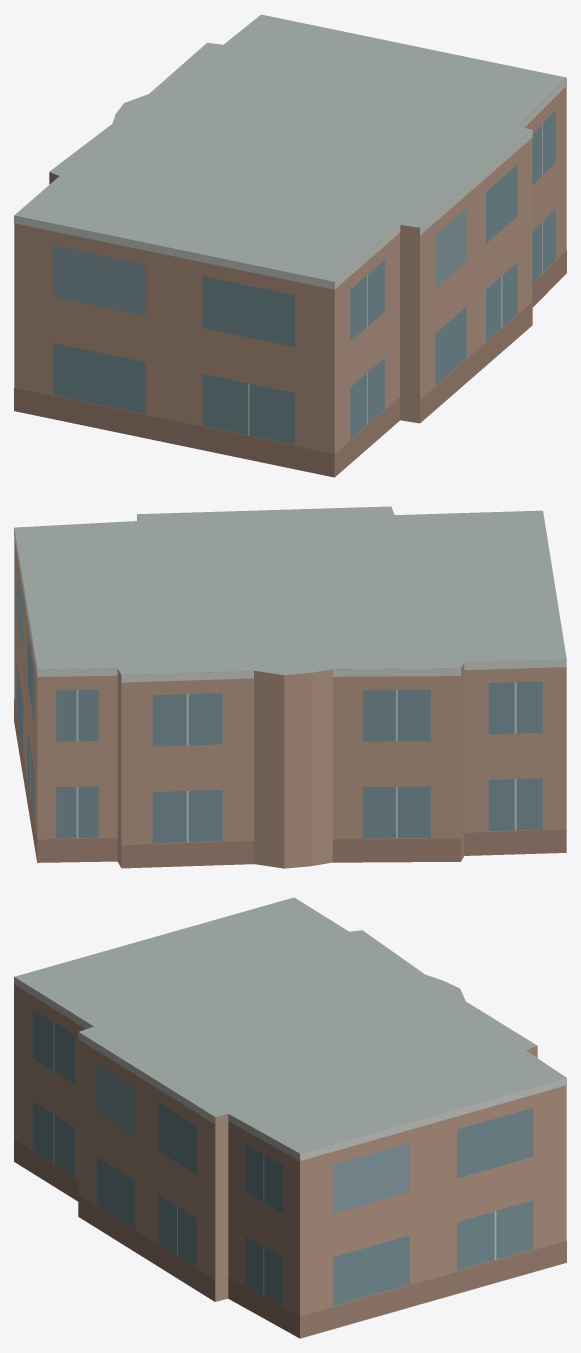
File: survey-upis-32619280.glb
3 renders of one model, top to bottom at view 1: azimuth 30°, elevation 25°; view 2: azimuth 150°, elevation 25°; view 3: azimuth 270°, elevation 25°, orthographic. The views are drawn at different scales.
Parts seen in each view (by area): view 1: survey-upis-32619280.tmp; view 2: survey-upis-32619280.tmp; view 3: survey-upis-32619280.tmp.
Part boxes in pixels (x1,y1,x2,y2): survey-upis-32619280.tmp: (14, 14, 566, 477); survey-upis-32619280.tmp: (14, 506, 566, 868); survey-upis-32619280.tmp: (14, 897, 566, 1338).
Size of the model in its own units: 18.15 by 6.1 by 16.54.
